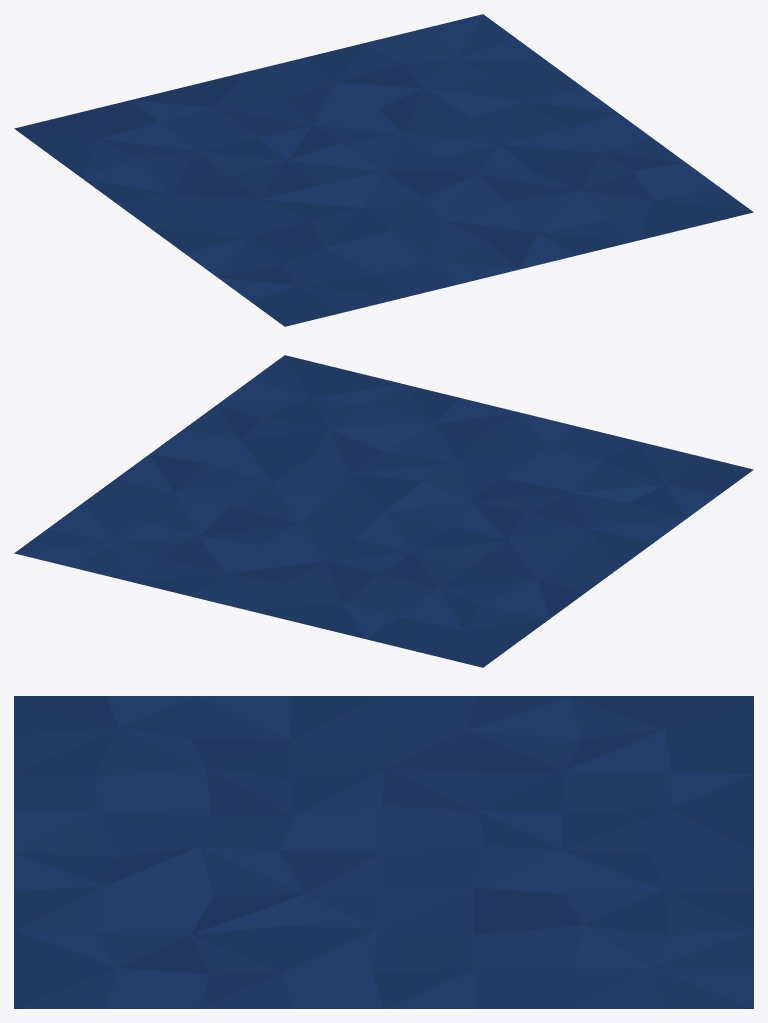
File: ground_deep_water_c.glb
The picture shows the model from 3 angles, top to bottom: view 1: azimuth 30°, elevation 25°; view 2: azimuth 150°, elevation 25°; view 3: azimuth 270°, elevation 25°; orthographic projection. The views are drawn at different scales.
Visible parts, largest first — view 1: ground_deep_water_c; view 2: ground_deep_water_c; view 3: ground_deep_water_c.
Boxes of the visible parts, x1,y1,x2,y2 form: ground_deep_water_c: (14, 14, 753, 326); ground_deep_water_c: (14, 355, 753, 667); ground_deep_water_c: (14, 696, 753, 1008).
Size of the model in its own units: 4 by 0.0234 by 4.
